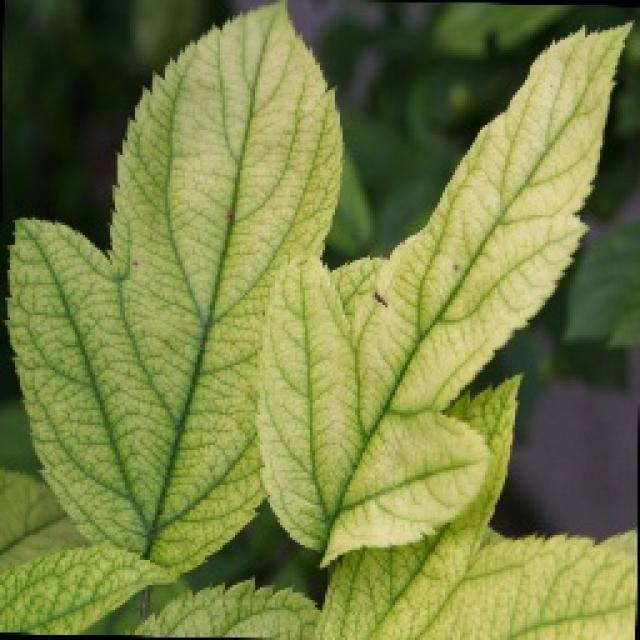Chlorosis: (41, 50, 640, 640)
